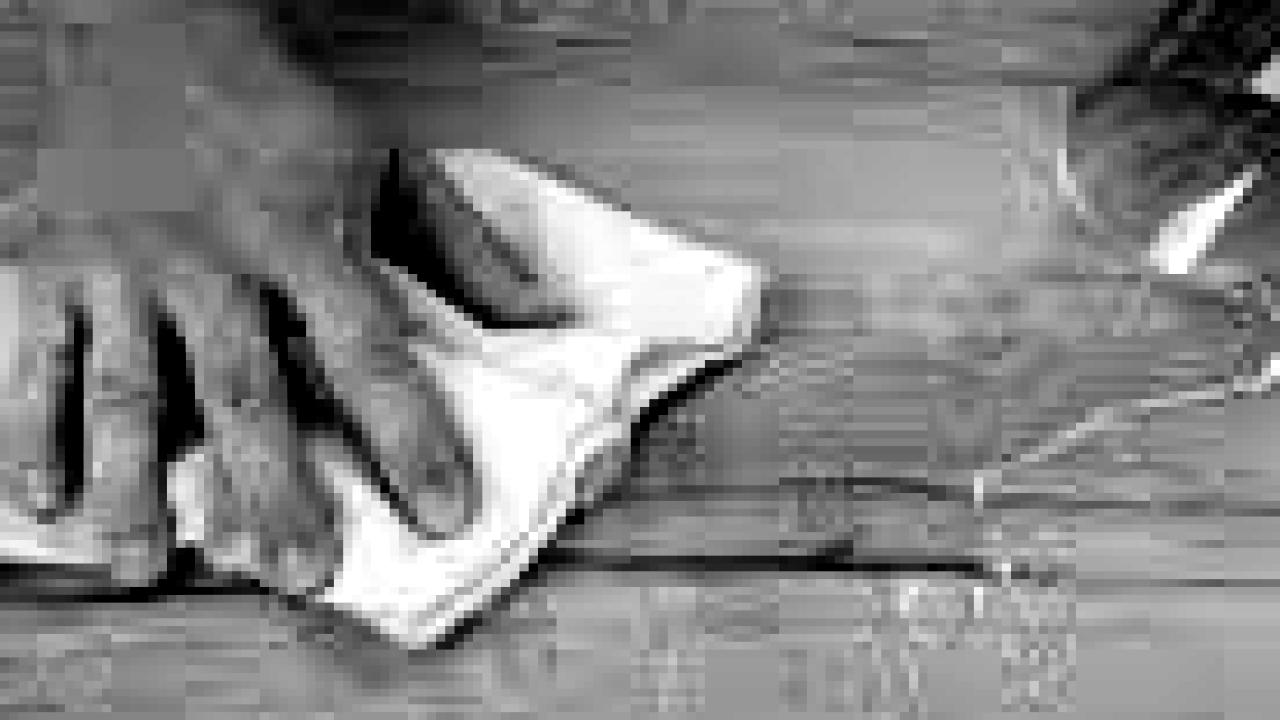Water Stains: (705, 227, 1271, 720)
